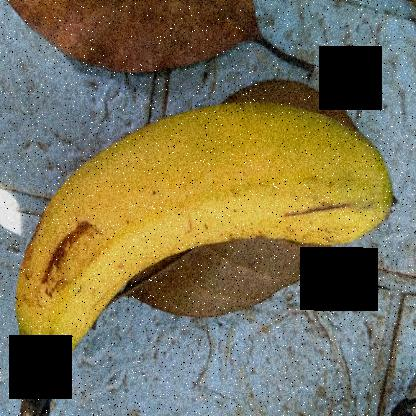ripe: (0, 82, 386, 415)
